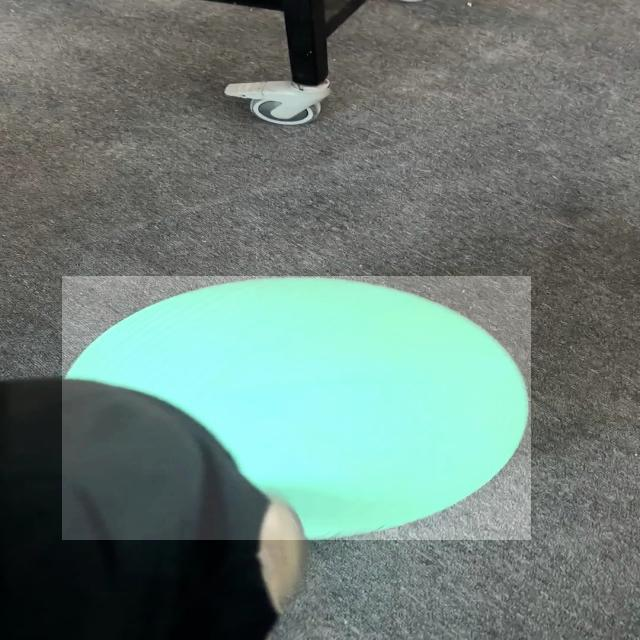Algae: (62, 276, 531, 540)
